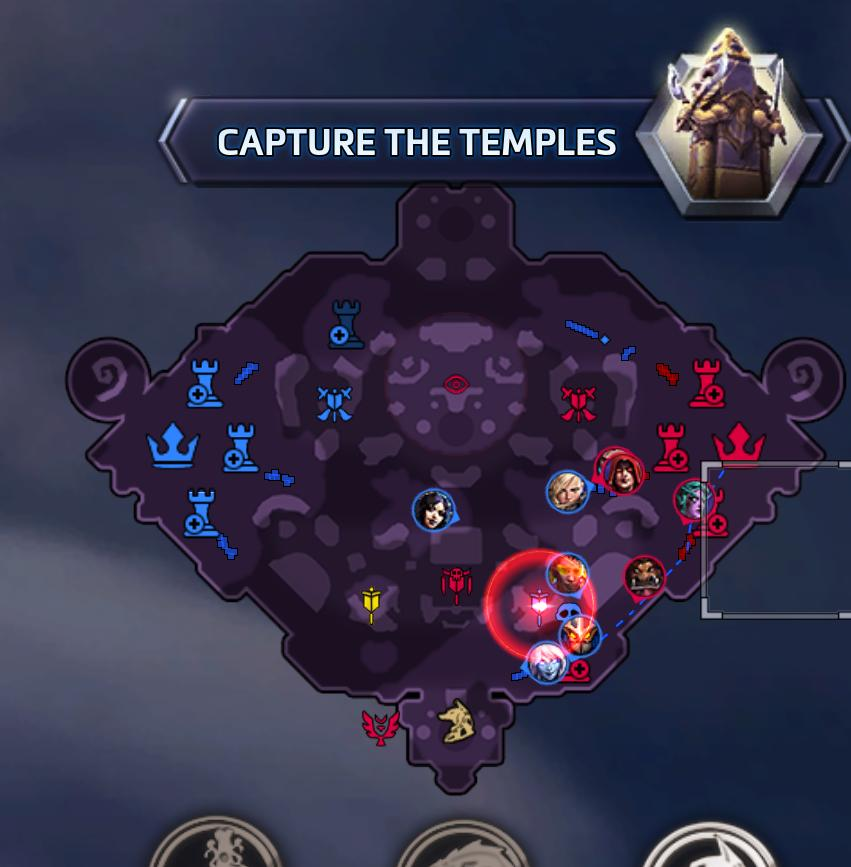blue nexus: (143, 411, 208, 472)
blue player: (523, 640, 568, 684), (557, 613, 602, 657), (412, 487, 456, 531), (546, 552, 590, 596), (545, 469, 588, 514), (553, 601, 585, 634)
blue tower: (319, 294, 378, 350), (216, 415, 267, 479), (172, 483, 228, 539), (182, 355, 231, 412)
red nexus: (711, 421, 766, 464)
red player: (599, 449, 645, 496), (622, 554, 666, 601), (673, 478, 713, 522), (608, 458, 639, 493)
red tower: (687, 357, 726, 410), (651, 422, 689, 475)
